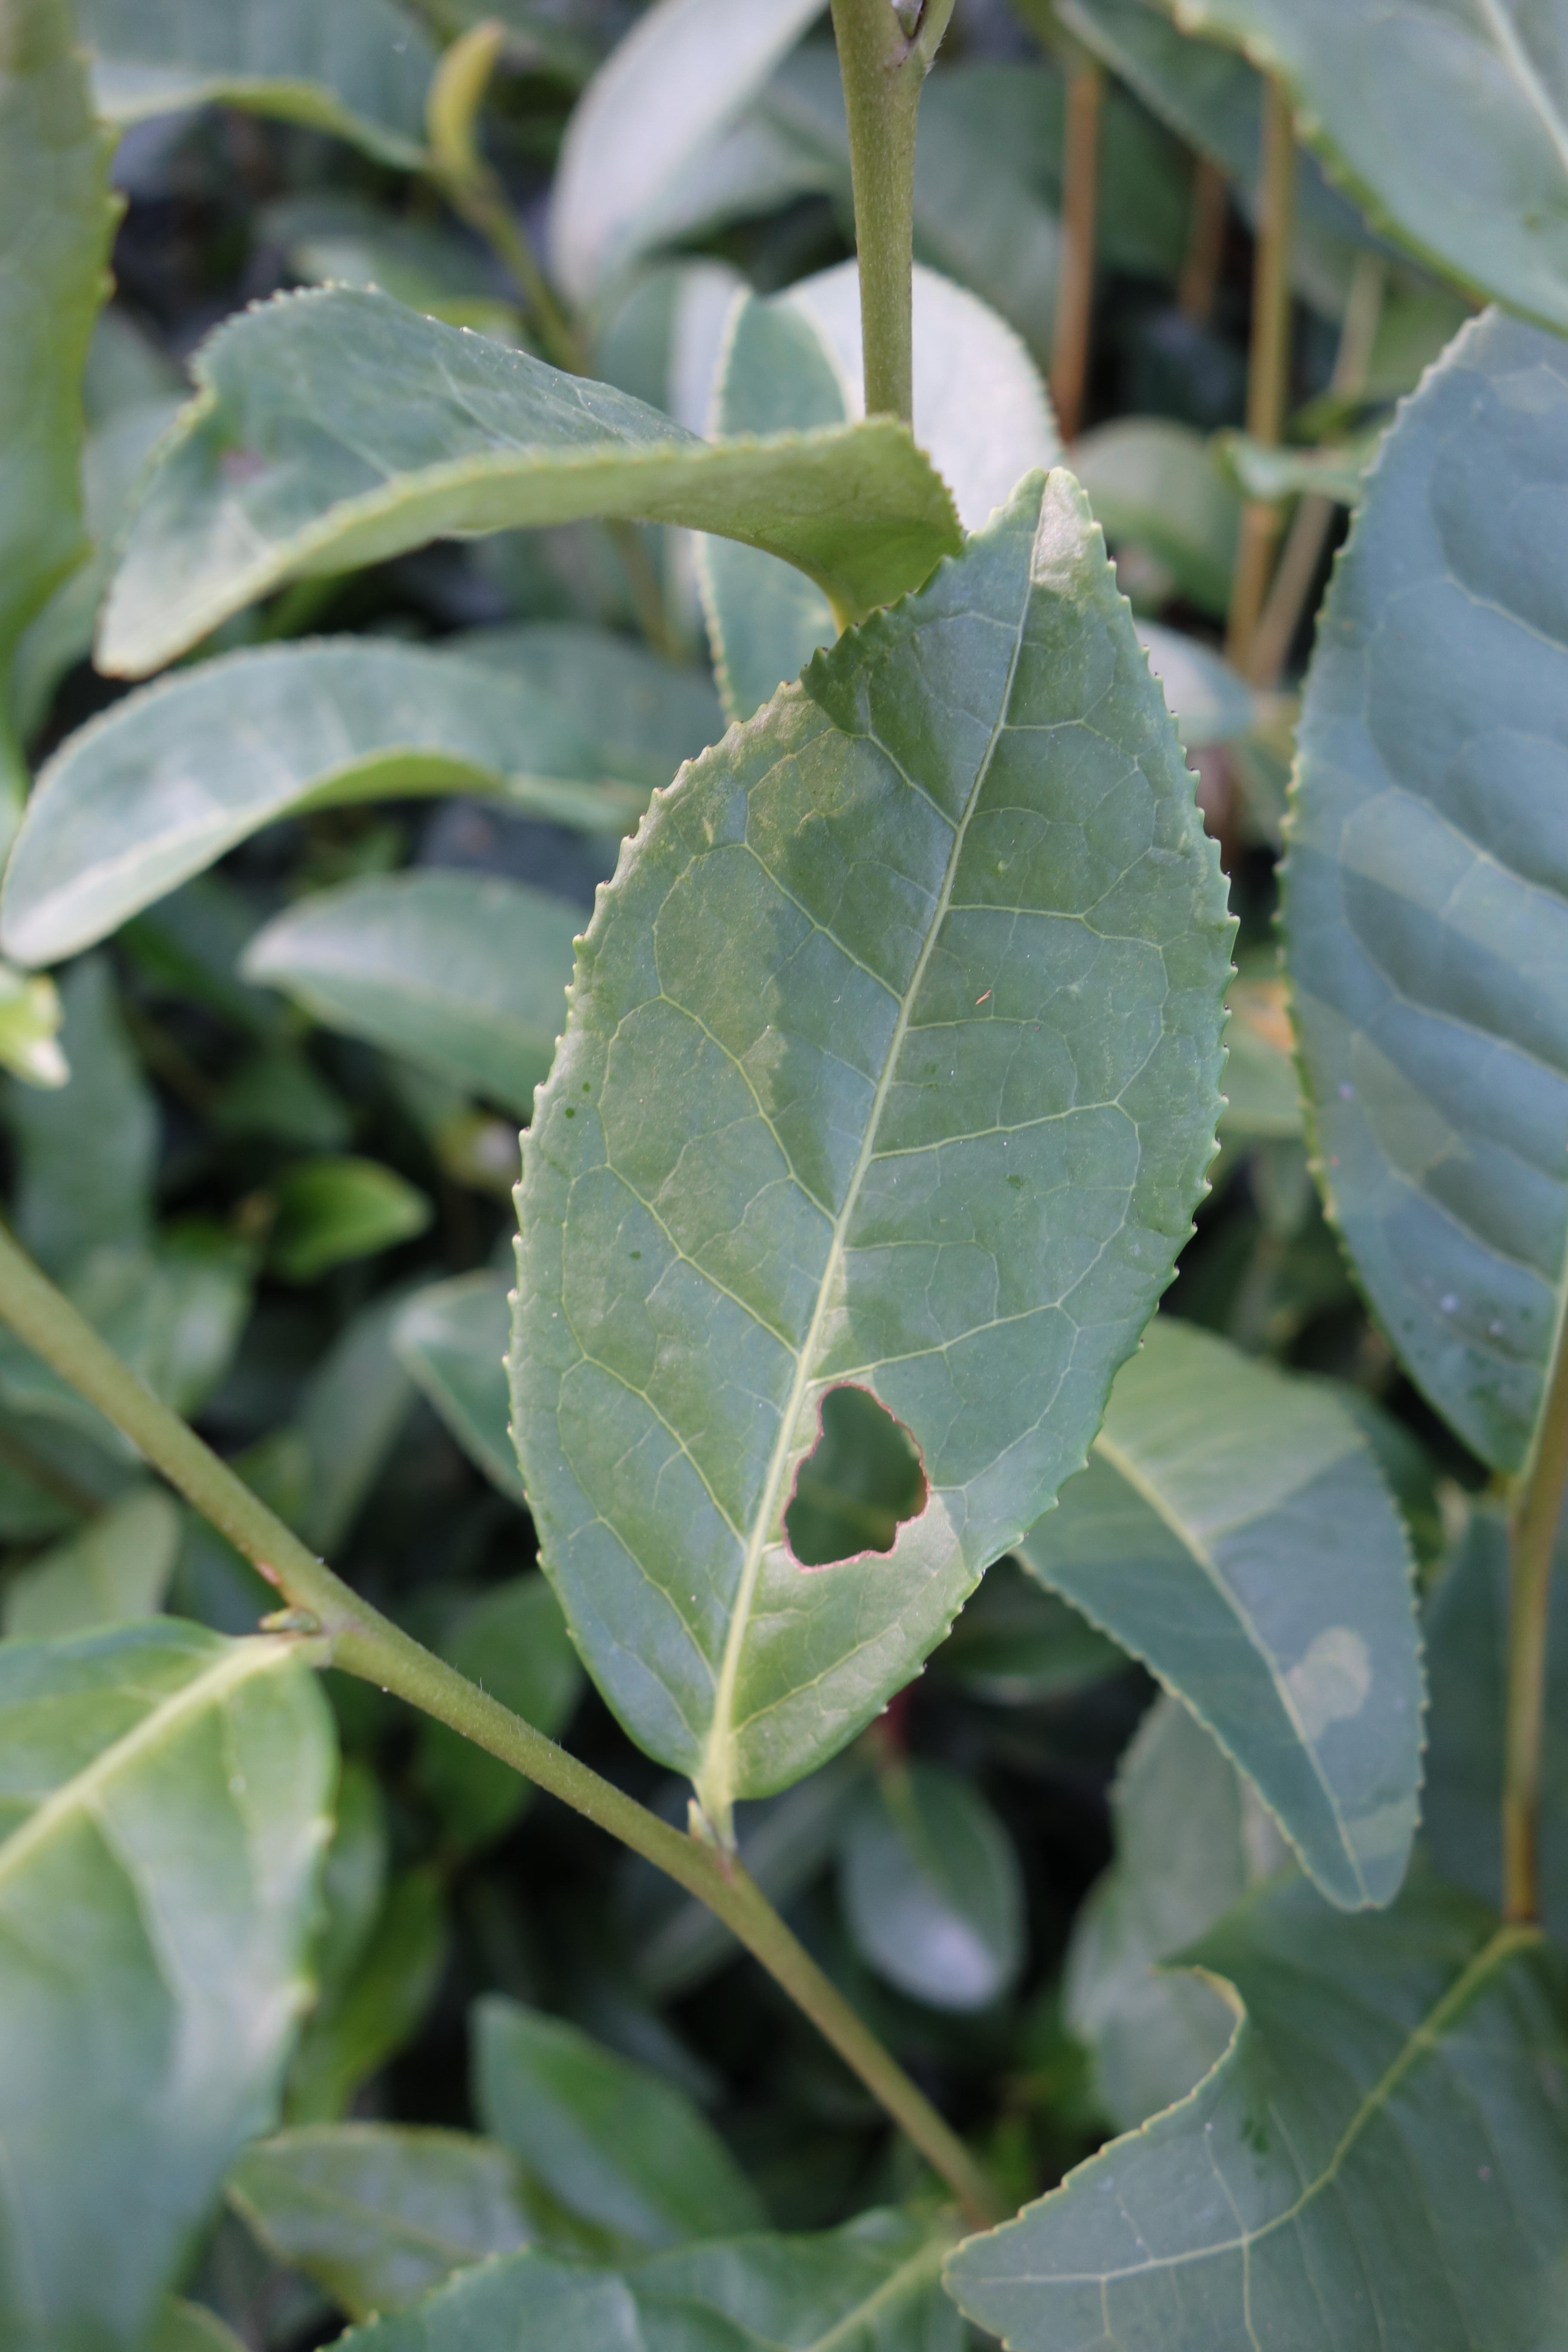chihuo_low: (506, 465, 1246, 1823)
healthy: (1018, 1314, 1419, 1907)
